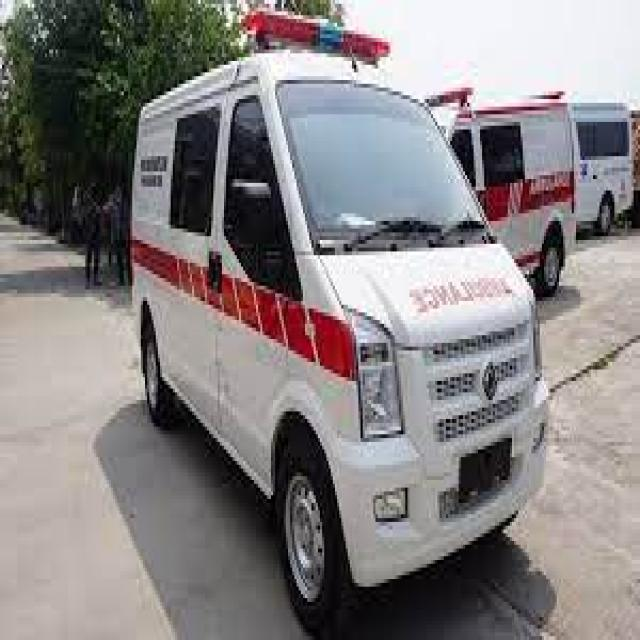emergency-vehicle: (126, 19, 542, 636)
